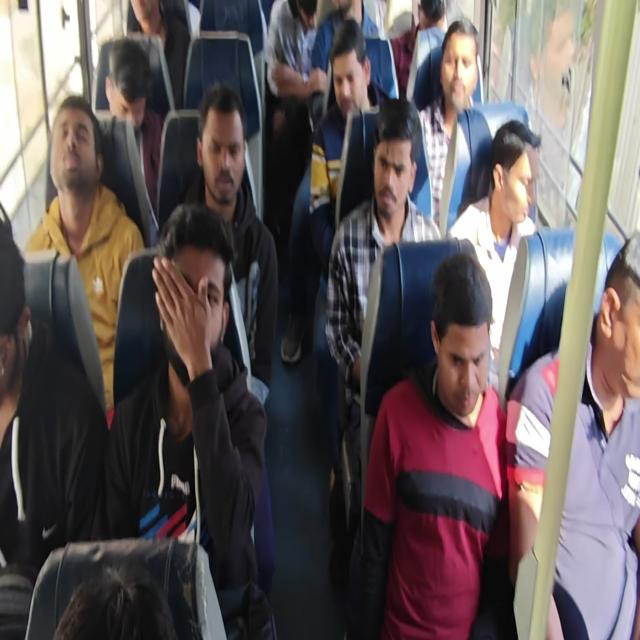person: (2, 1, 638, 638), (104, 201, 276, 638), (359, 251, 510, 638), (505, 230, 639, 638), (324, 94, 442, 535), (0, 216, 109, 637), (23, 94, 145, 424), (280, 17, 387, 364), (179, 83, 279, 404), (447, 119, 540, 389), (512, 0, 591, 228), (412, 17, 491, 231), (264, 0, 328, 246), (103, 37, 163, 220), (53, 554, 177, 639), (310, 0, 382, 111), (126, 0, 191, 111), (390, 0, 448, 106)
